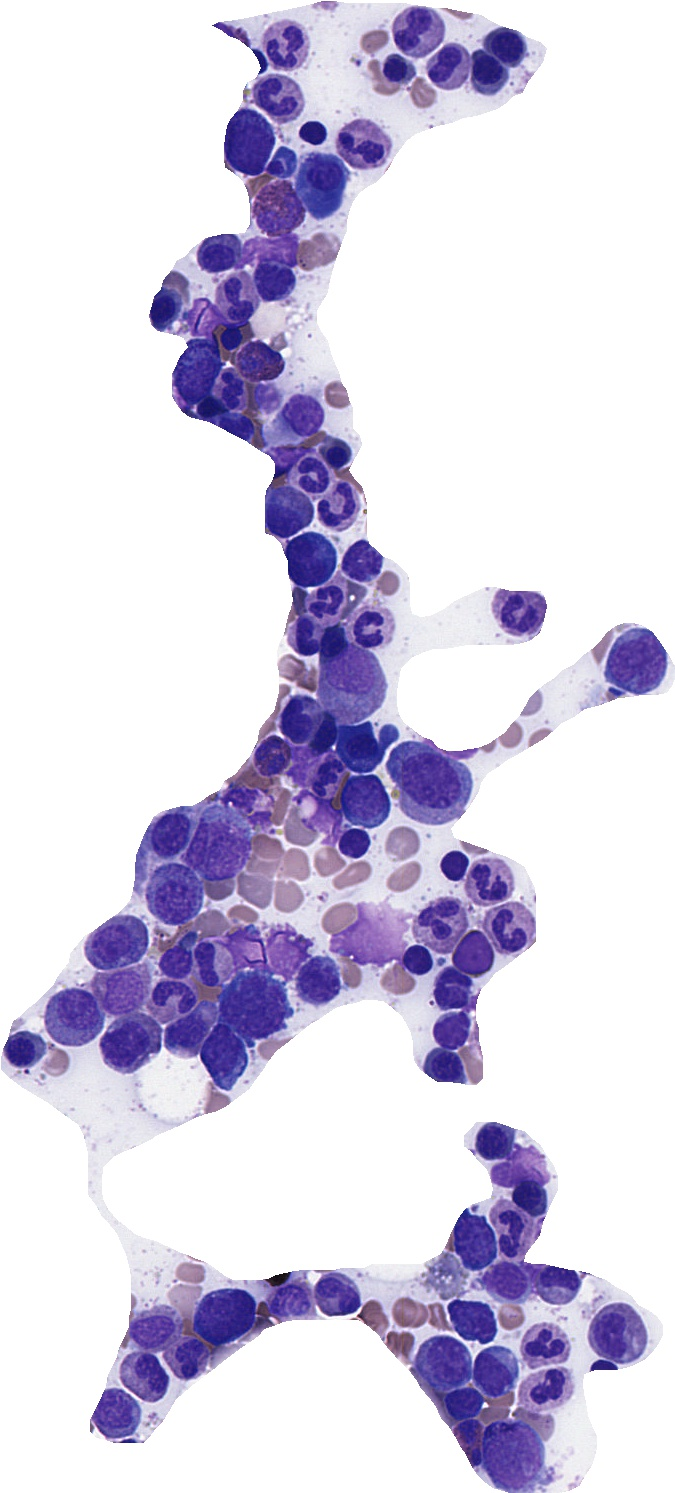objectness: (296, 158, 346, 208), (517, 1320, 567, 1370), (253, 70, 303, 120), (414, 899, 464, 949), (290, 449, 340, 499), (337, 115, 387, 165), (498, 588, 548, 638), (301, 577, 351, 627), (161, 1335, 211, 1385), (310, 1270, 360, 1320), (484, 905, 534, 955), (486, 1209, 536, 1259), (207, 365, 257, 415), (464, 859, 514, 909), (344, 602, 394, 652), (302, 753, 352, 803), (314, 482, 364, 532), (261, 22, 311, 72), (211, 270, 261, 320), (146, 971, 196, 1021), (524, 1361, 574, 1411), (151, 872, 201, 922), (594, 1310, 644, 1360), (166, 1009, 216, 1059), (263, 484, 313, 534), (194, 228, 244, 278), (105, 1018, 155, 1068), (86, 920, 136, 970), (531, 1258, 581, 1308), (97, 1385, 147, 1435), (129, 1305, 179, 1355), (45, 993, 95, 1043), (254, 182, 304, 232), (236, 333, 286, 383), (249, 729, 299, 779), (280, 610, 330, 660), (272, 695, 322, 745), (425, 40, 475, 90), (187, 938, 237, 988), (390, 4, 440, 54), (123, 1350, 173, 1400), (201, 1028, 251, 1078), (420, 1337, 470, 1387), (399, 750, 449, 800), (199, 1290, 249, 1340), (337, 775, 387, 825), (487, 1430, 537, 1480), (226, 117, 276, 167), (283, 535, 333, 585), (229, 978, 279, 1028), (611, 636, 661, 686), (455, 926, 505, 976), (181, 384, 231, 434), (226, 779, 276, 829), (336, 724, 386, 774), (177, 294, 227, 344), (275, 739, 325, 789), (439, 1380, 489, 1430), (482, 1256, 532, 1306), (145, 808, 195, 858), (244, 372, 294, 422), (258, 928, 308, 978), (429, 843, 479, 893), (449, 1216, 499, 1266), (325, 658, 375, 708), (449, 1291, 499, 1341), (219, 922, 269, 972), (213, 400, 263, 450), (264, 1277, 314, 1327), (104, 963, 154, 1013), (357, 909, 407, 959), (271, 393, 321, 443), (447, 1419, 497, 1469), (256, 140, 306, 190), (288, 107, 338, 157), (298, 713, 348, 763), (291, 791, 341, 841), (334, 824, 384, 874), (428, 965, 478, 1015), (389, 937, 439, 987), (498, 1140, 548, 1190), (241, 223, 291, 273), (150, 935, 200, 985), (294, 955, 344, 1005), (248, 259, 298, 309), (423, 1003, 473, 1053), (337, 535, 387, 585), (470, 1348, 520, 1398), (312, 430, 362, 480), (372, 45, 422, 95), (464, 45, 514, 95), (141, 284, 191, 334), (469, 1117, 519, 1167), (483, 20, 533, 70), (506, 1171, 556, 1221), (421, 1040, 471, 1090)
